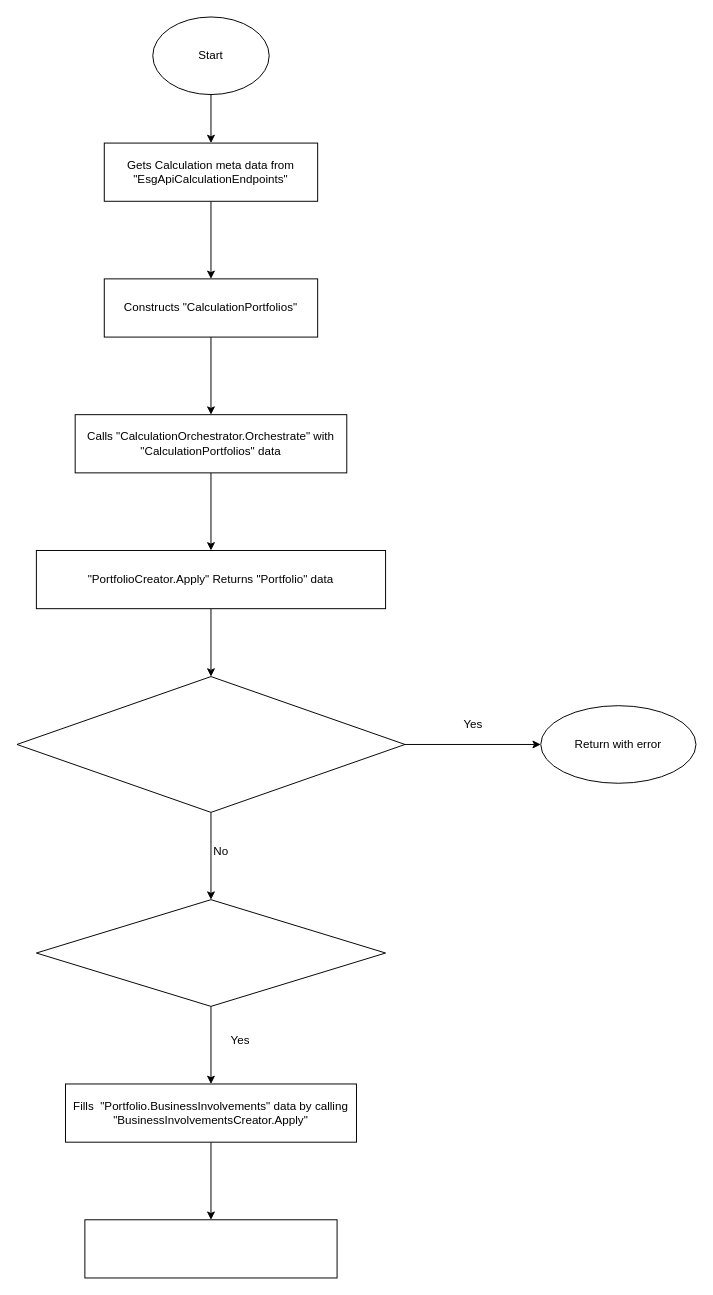
Some shapes in this 713 by 1295 pixel diagram are drawn without their labels. The centre of each missing label's shape, as x and y in pixels:
calculationPortfolio.Providers.Contains(Provider.MSCI): [210,952]
Fills "portfolio.Holdings" data by calling "FundLookThrough.Apply": [210,1248]
portfolioResult.IsFailure: [210,744]
